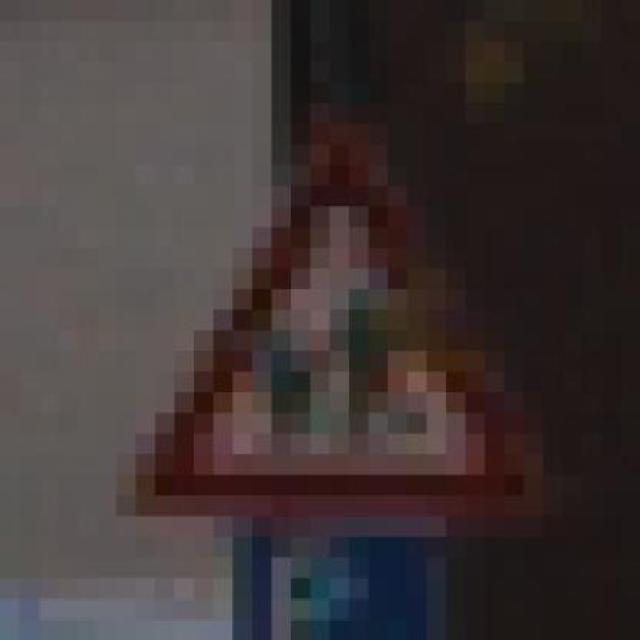Beware of children: (124, 62, 531, 558)
